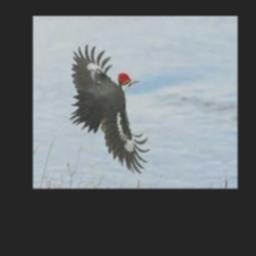Woodpecker: (70, 43, 150, 173)
